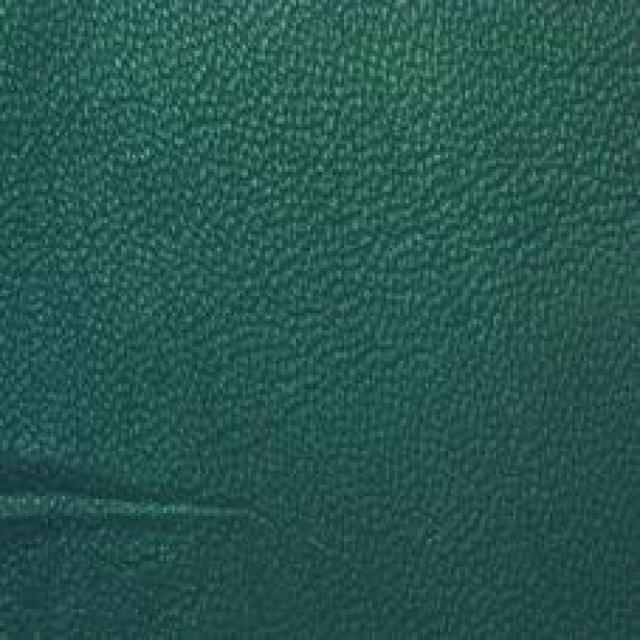Growth Marks: (28, 427, 284, 573)
